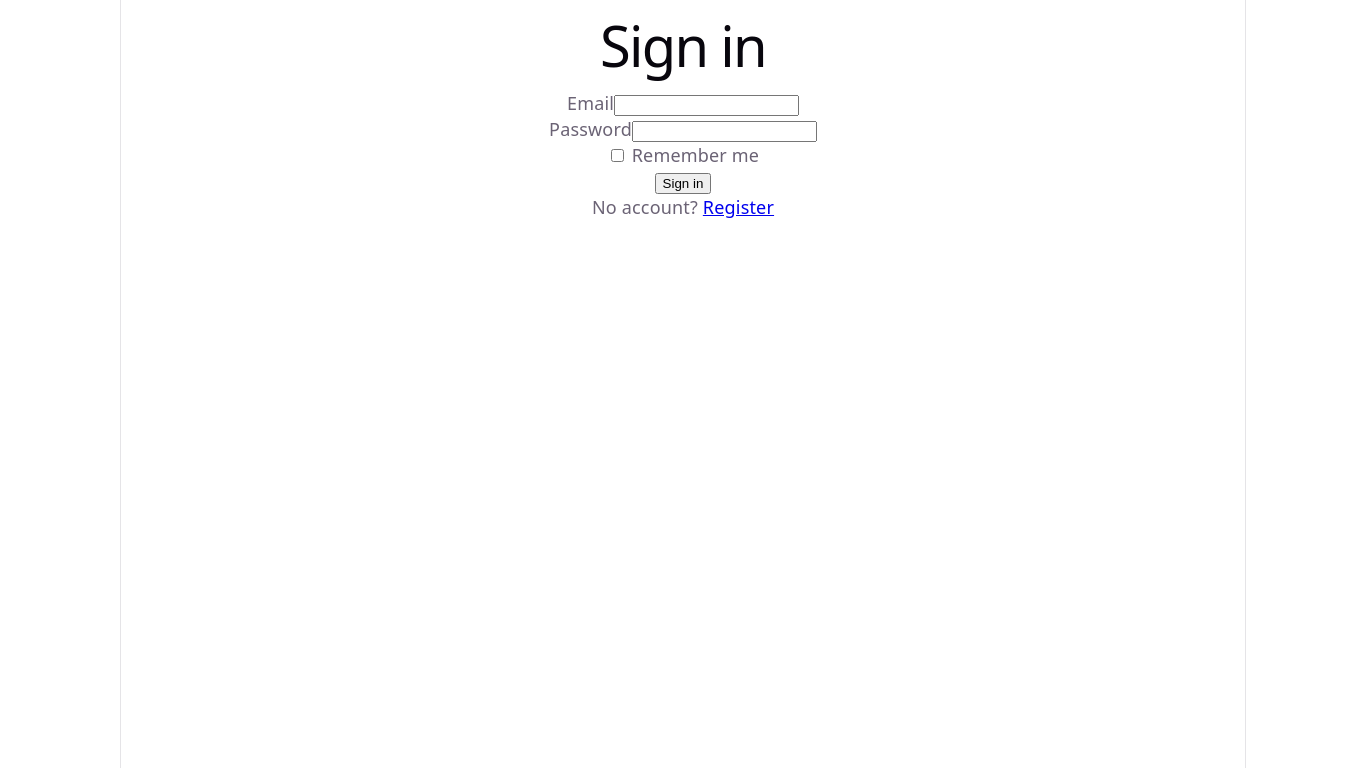
Test case: LoginPage › shows "Invalid email or password." on a 401 response
The width and height of the screenshot is (1366, 768).
Type "test@example.com" into the field labelled "Email" at (707, 106), box [614,95,799,116]
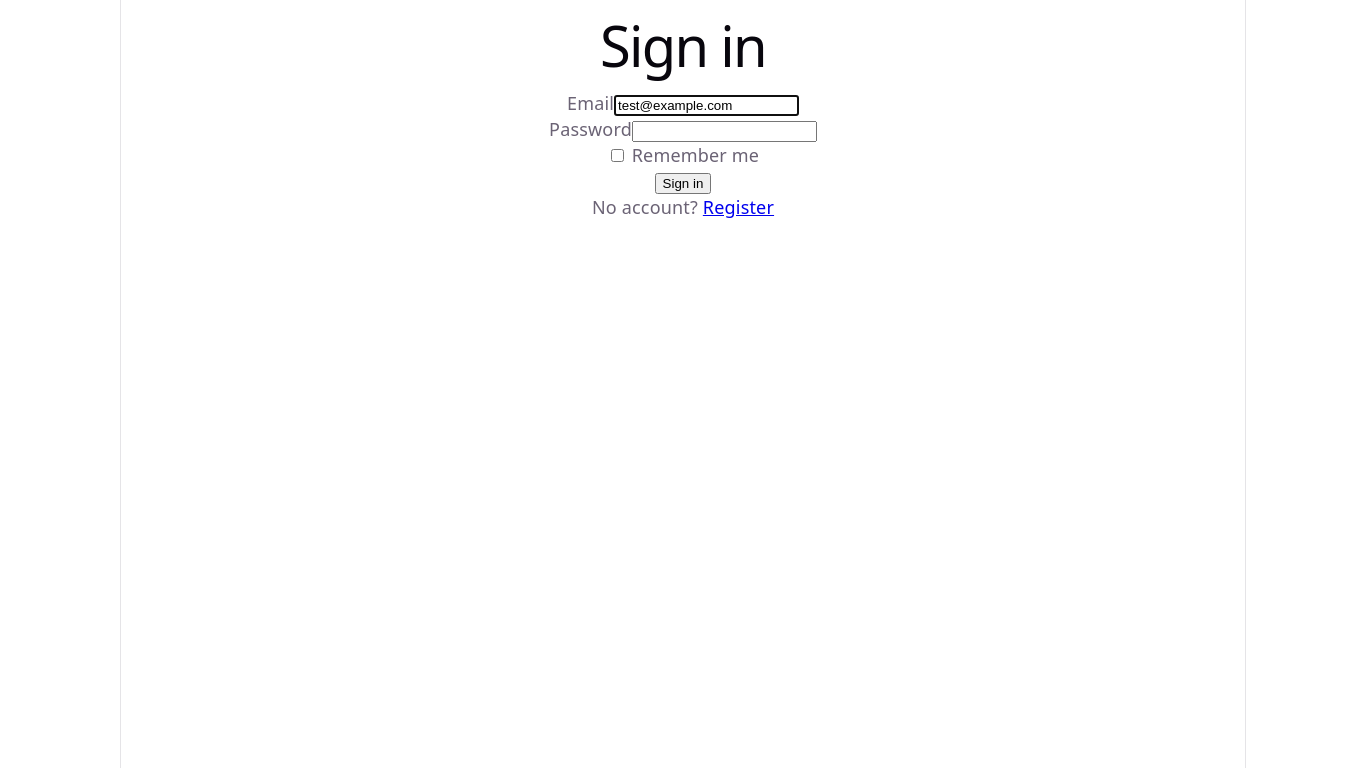
Type "wrongpassword" into the password field labelled "Password" at (724, 132), box [632,121,817,142]
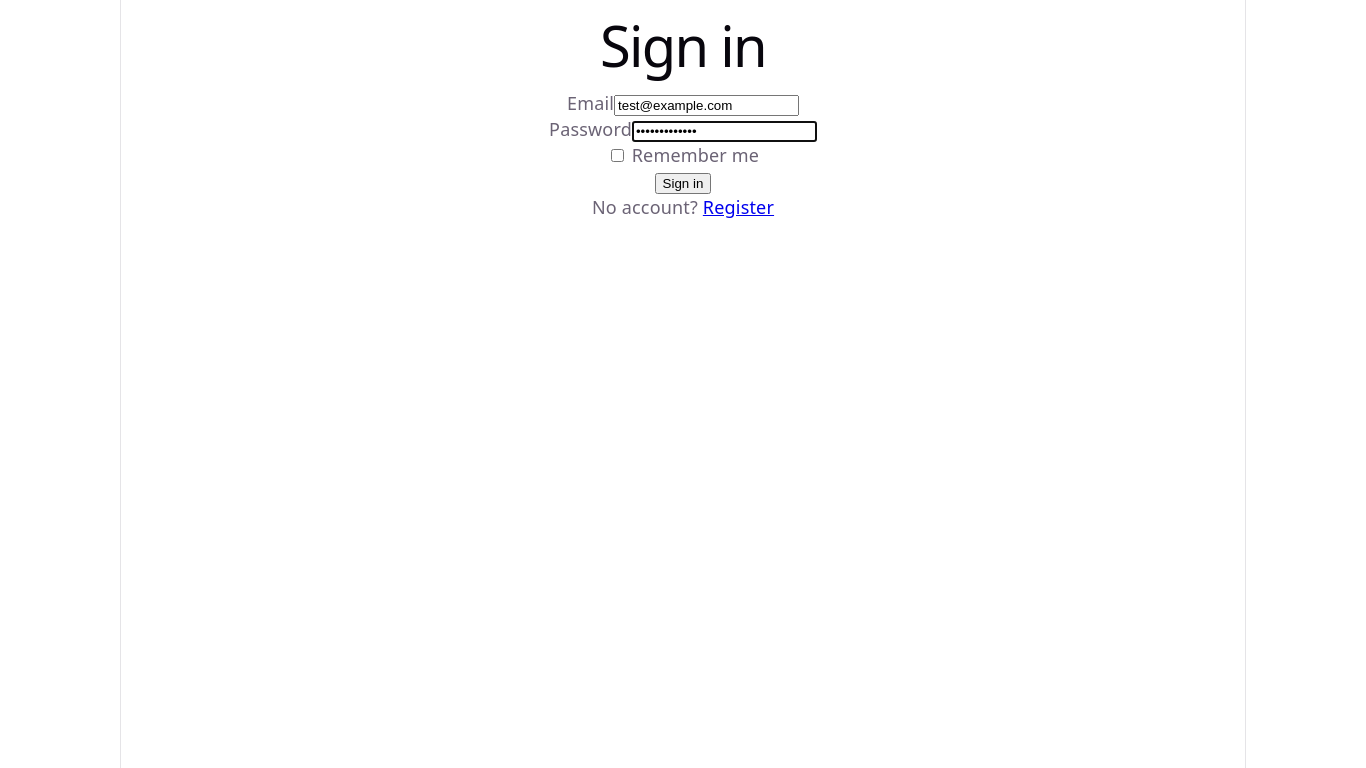
Click the button "Sign in" at (683, 184), box [655,173,711,194]
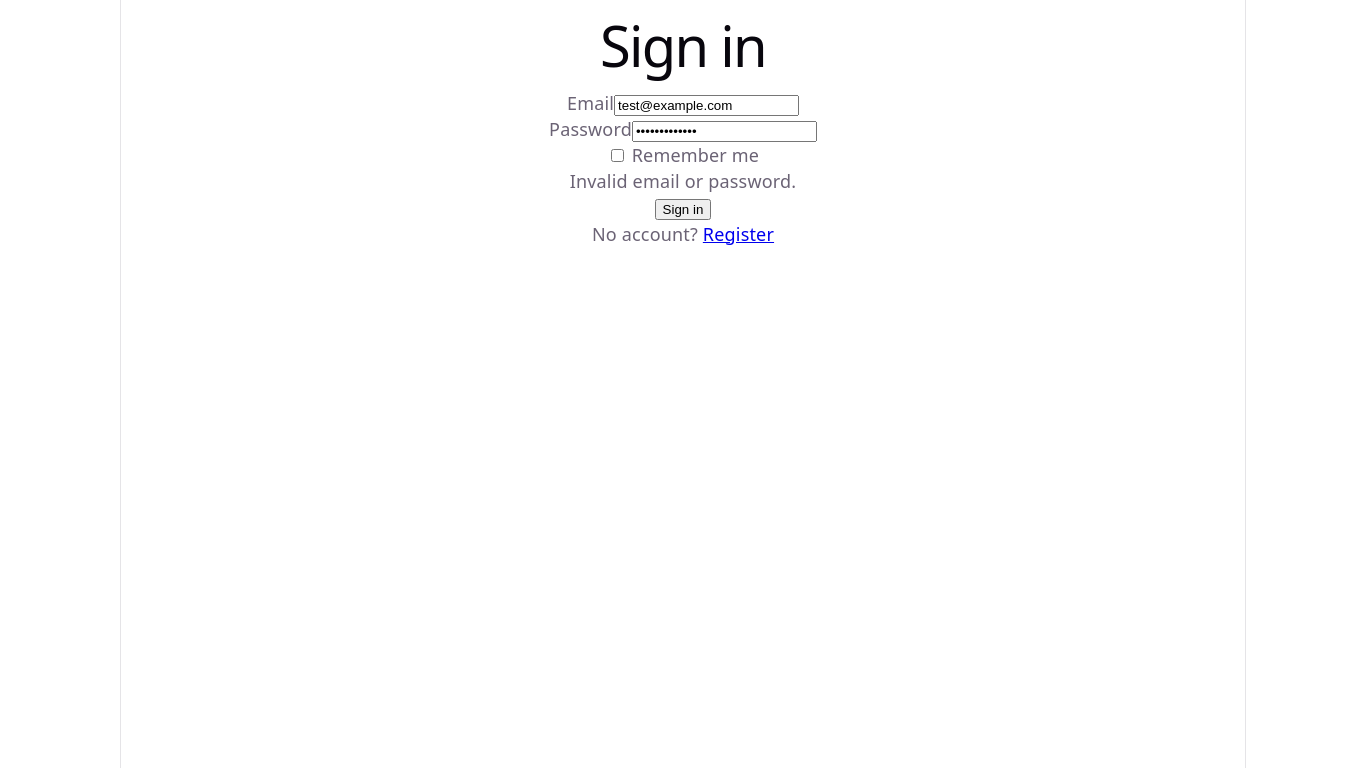
Expected: the text "Invalid email or password." is shown, [570,169,796,193]
